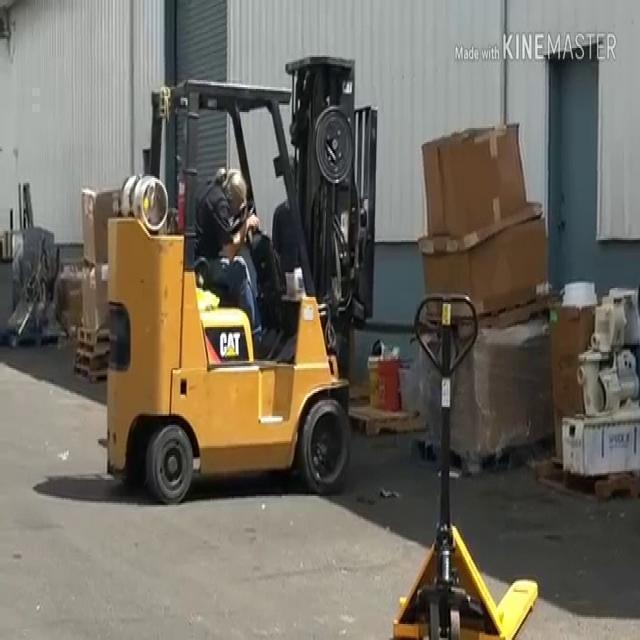forklift: (102, 46, 382, 505)
